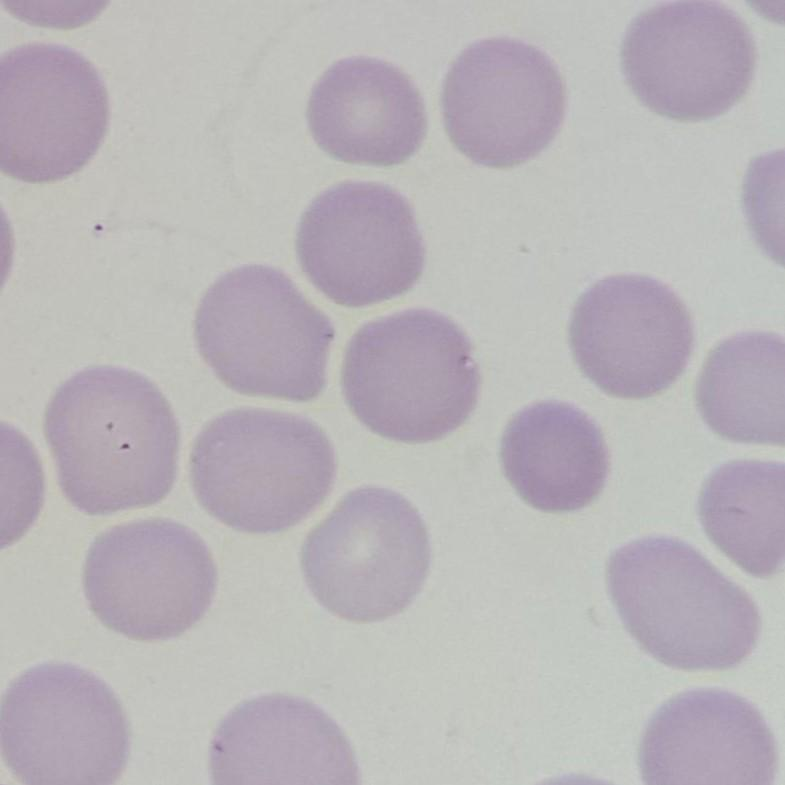Uninfected: (605, 532, 761, 669), (198, 267, 333, 402), (50, 367, 178, 509), (345, 311, 481, 442), (193, 412, 335, 533), (82, 517, 221, 638), (302, 486, 427, 620), (0, 44, 111, 185), (442, 42, 564, 168), (295, 184, 422, 305), (2, 666, 131, 785), (622, 0, 754, 116), (572, 274, 691, 399), (638, 687, 785, 785), (310, 57, 434, 167), (213, 696, 357, 785), (505, 404, 609, 514)
